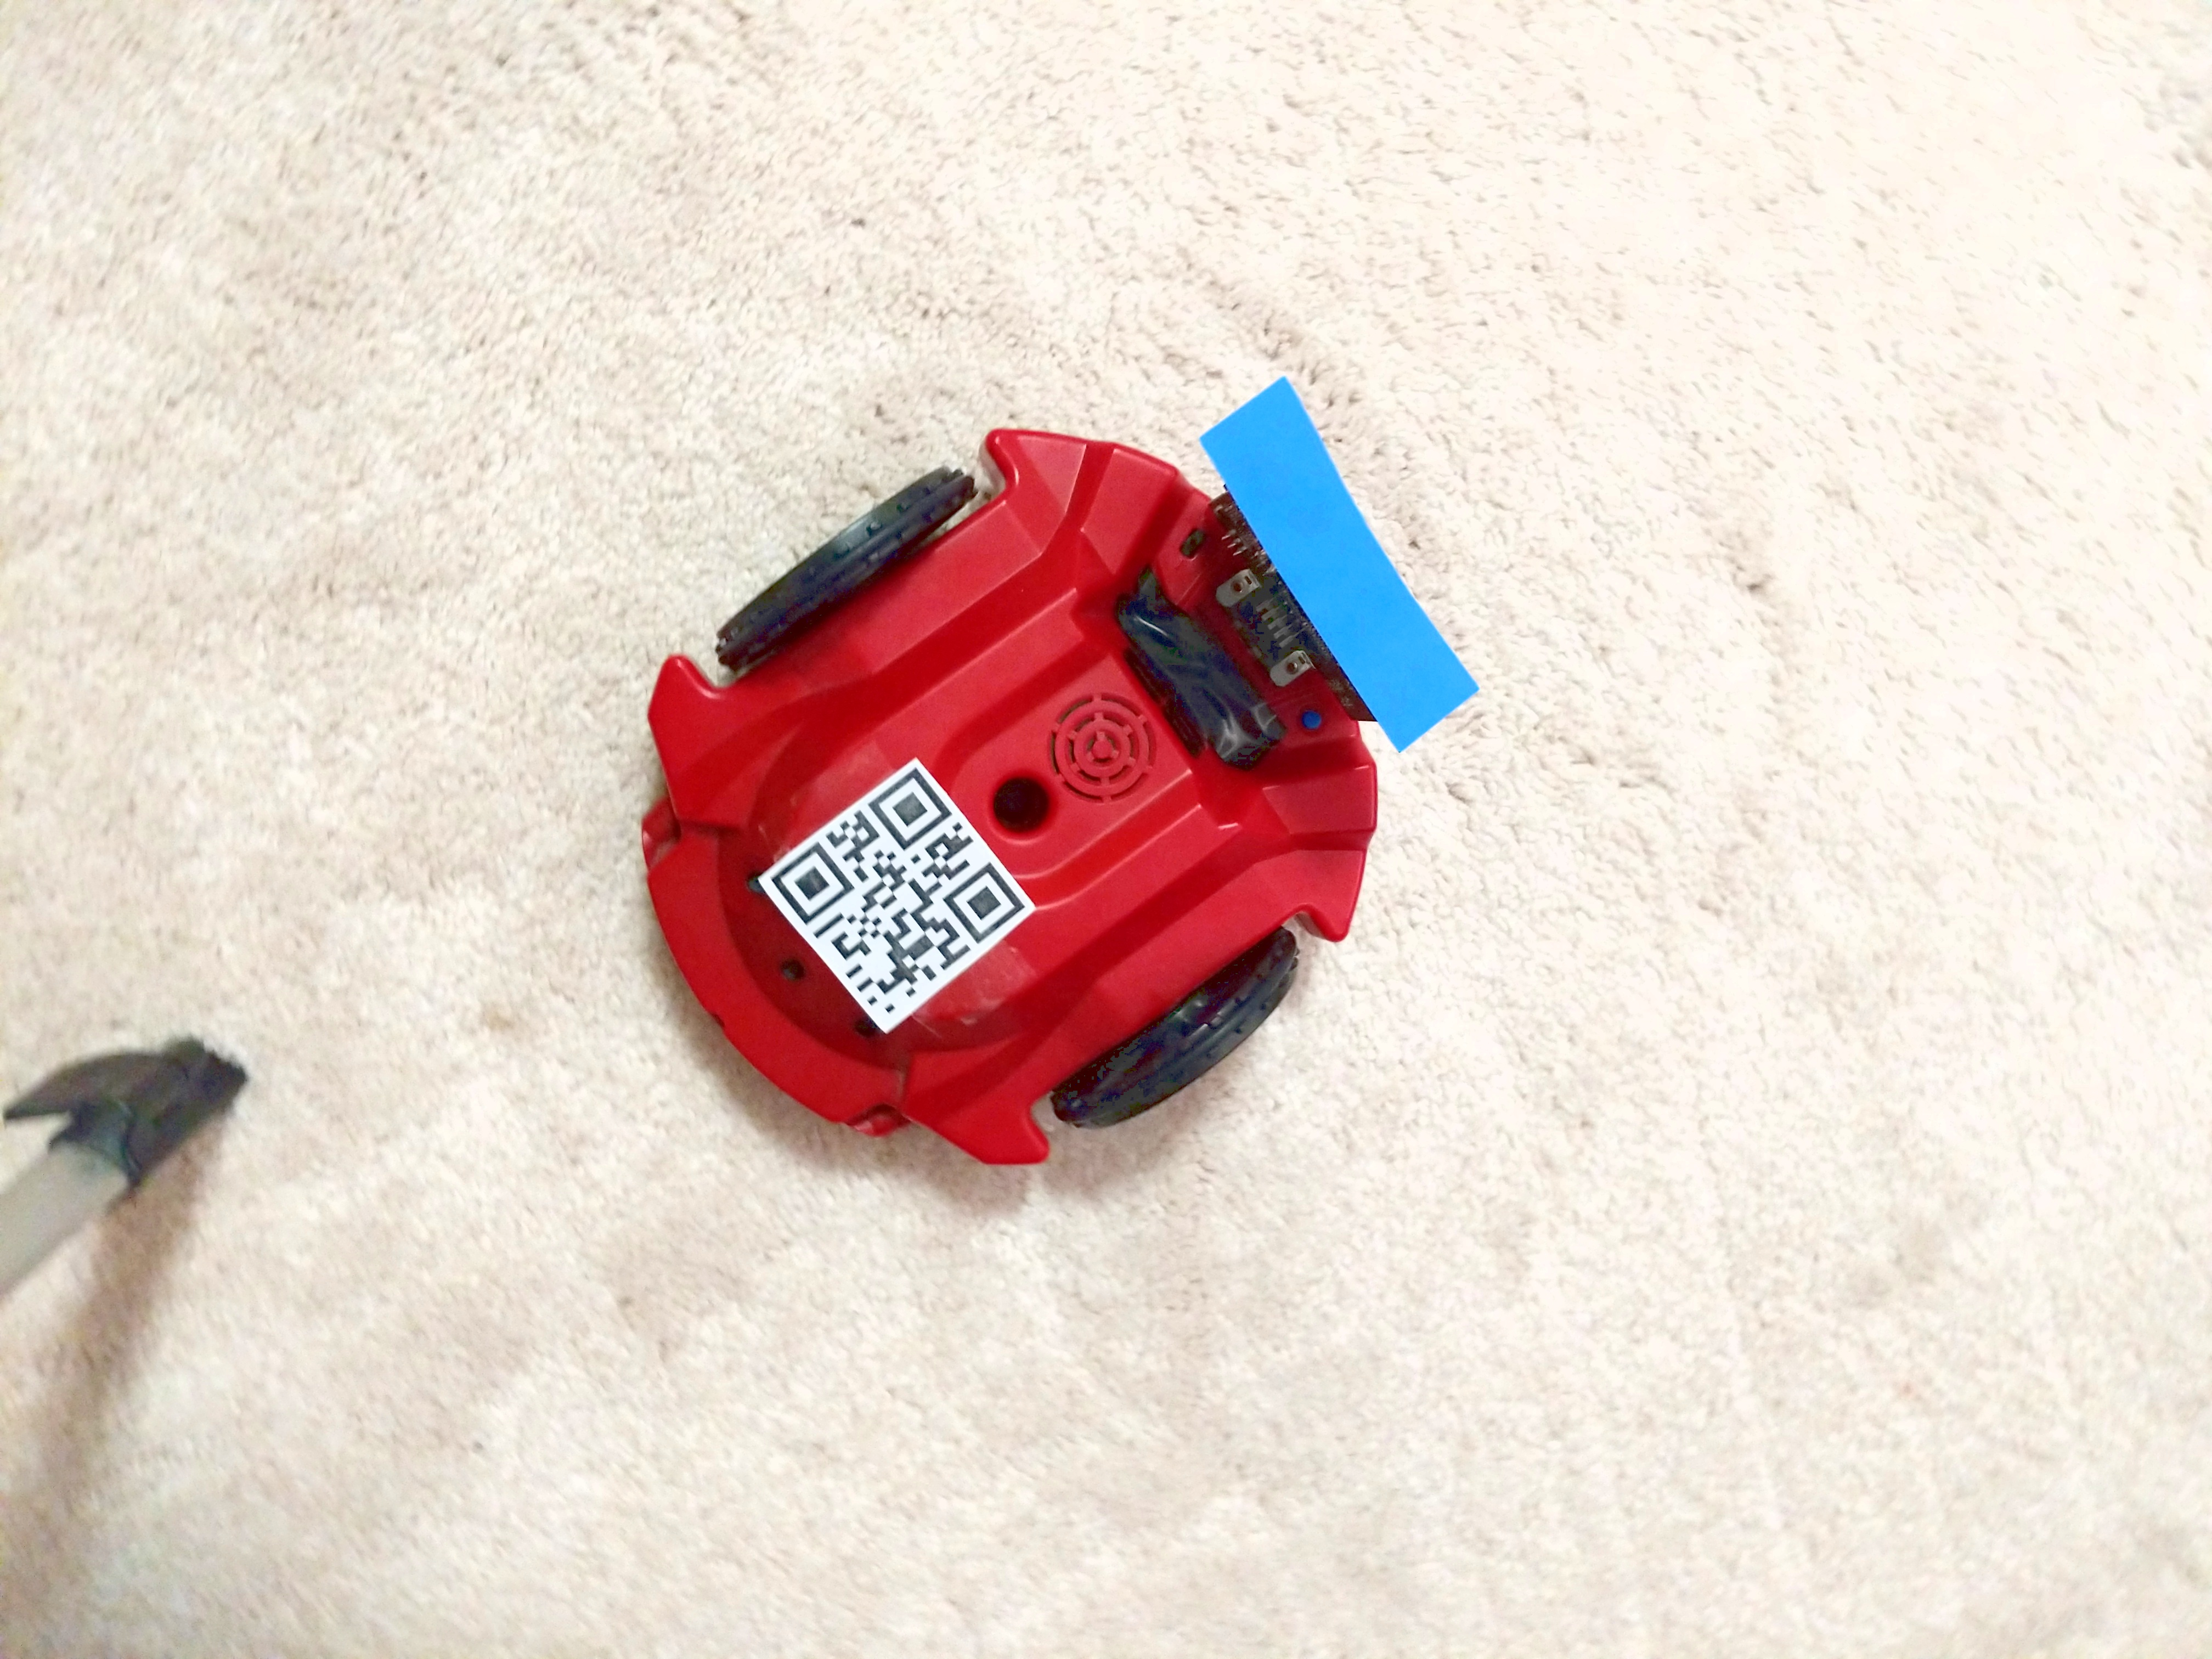board: (728, 901, 1022, 1309)
chassis: (721, 471, 1595, 1298)
